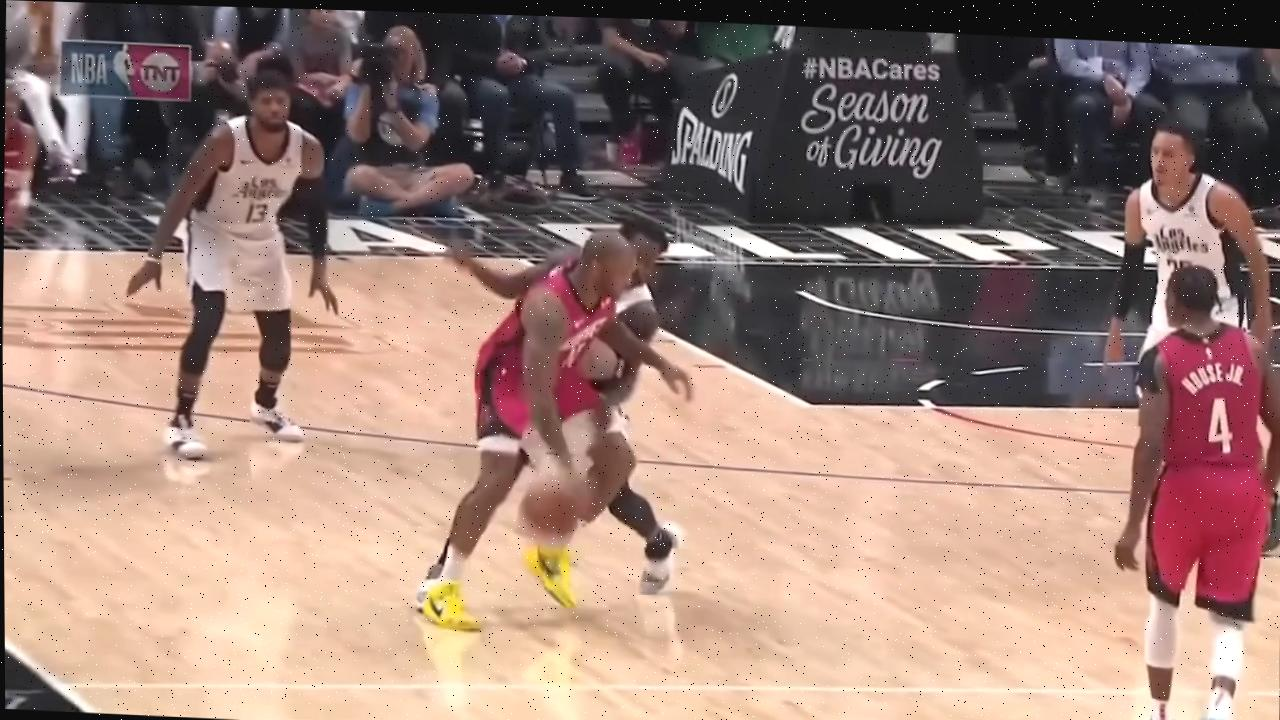foul: (426, 216, 721, 636)
